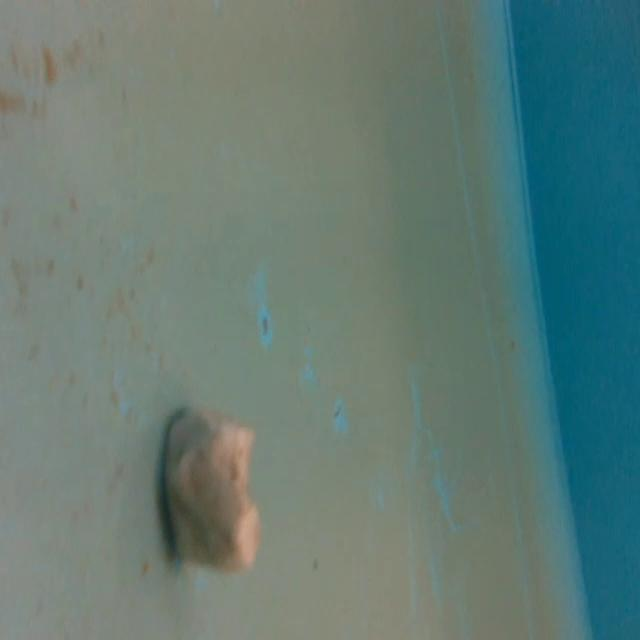rock: (158, 396, 267, 582)
